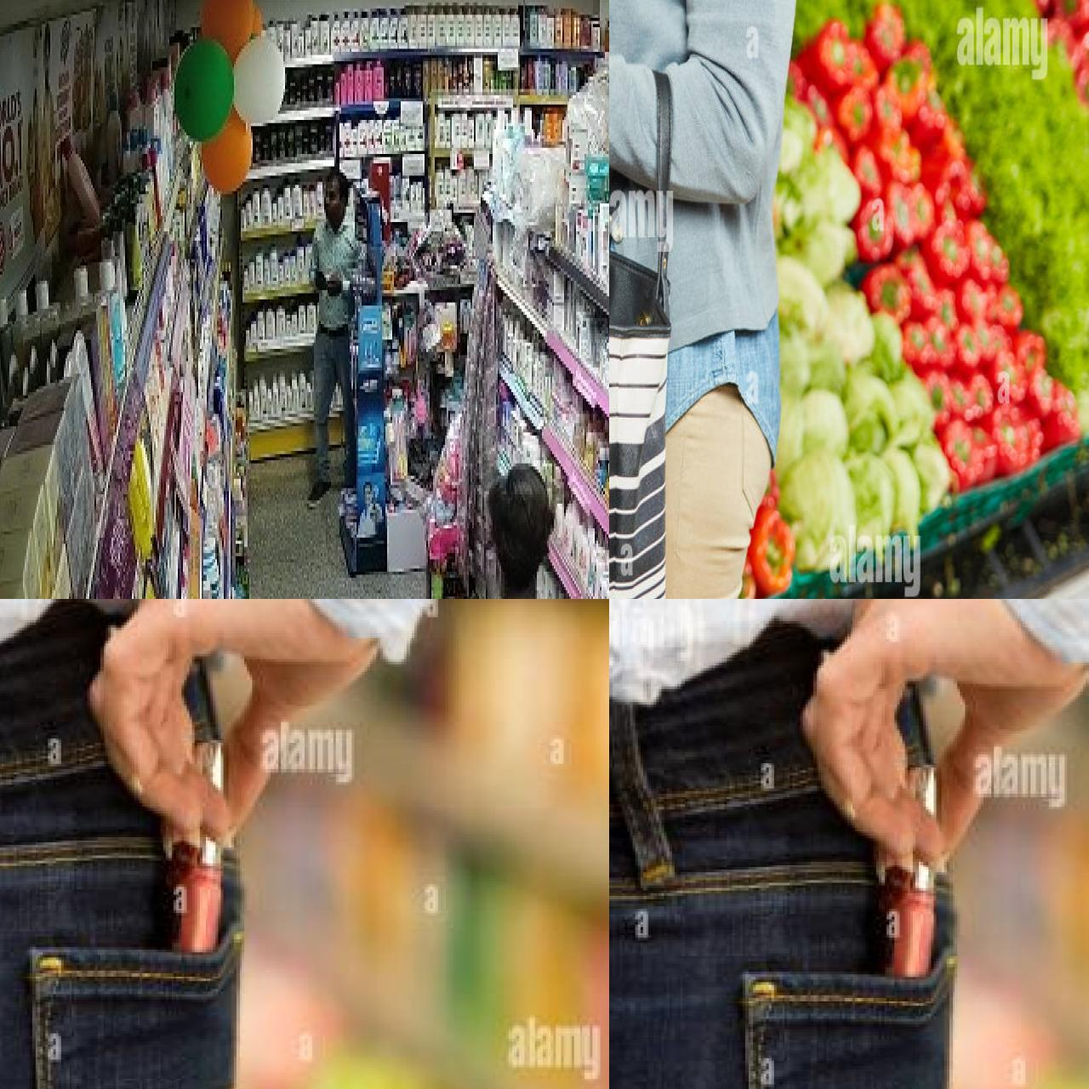shoplifting: (0, 598, 492, 1089), (628, 607, 1089, 1089)
